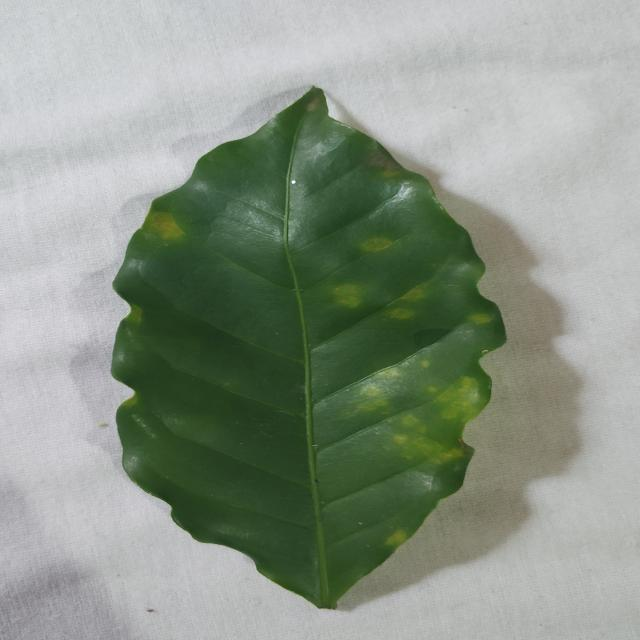Enfermedad-Roya: (109, 87, 508, 612)
